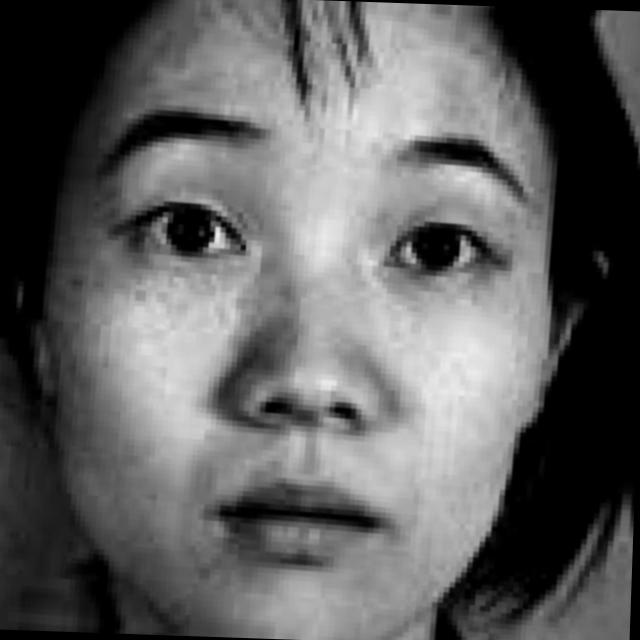surprise: (74, 33, 561, 640)
